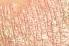plaque psoriasis: (0, 2, 61, 46), (21, 0, 69, 46)
